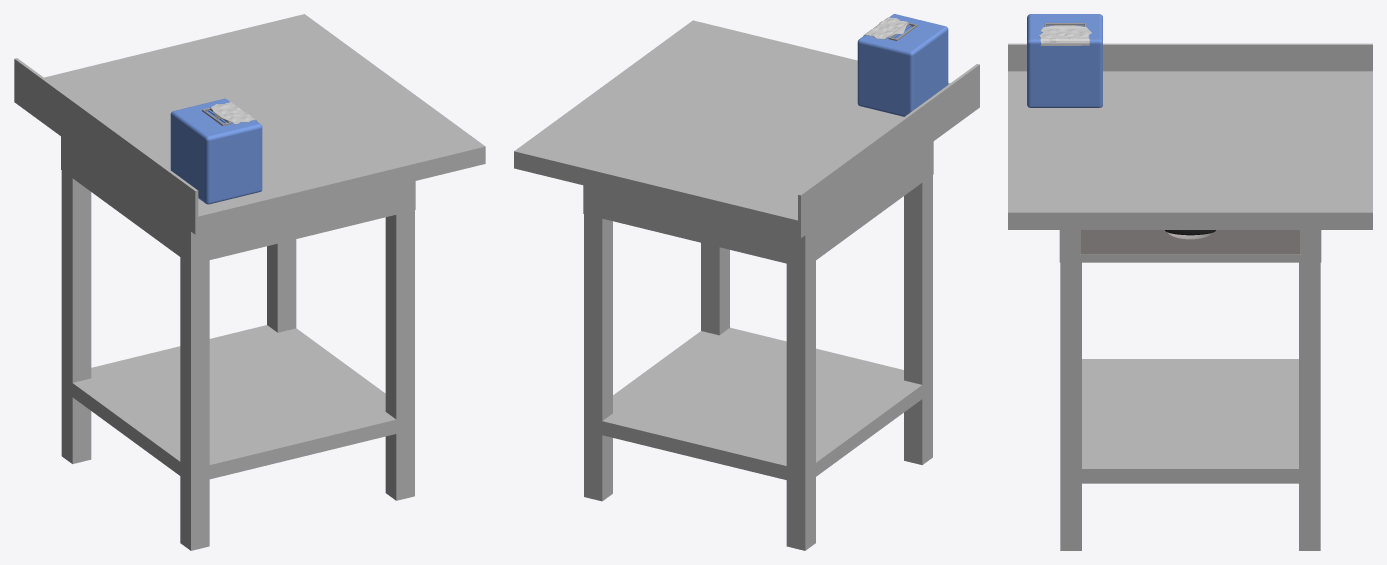
The model's file is Distribution.fbx.
3 views of the same model, side by side, from view 1: azimuth 30°, elevation 25°; view 2: azimuth 150°, elevation 25°; view 3: azimuth 270°, elevation 25° (orthographic).
Parts seen in each view (by area): view 1: Table, Box, BoxNapkin, Napkin; view 2: Table, Box, BoxNapkin, Napkin; view 3: Table, BoxNapkin, BoxInside, Box, Napkin.
Part boxes in pixels (x1,y1,x2,y2): Table: (14, 14, 485, 550); Box: (61, 136, 415, 264); BoxNapkin: (170, 98, 262, 204); Napkin: (211, 102, 257, 124); Table: (514, 20, 979, 550); Box: (583, 141, 933, 267); BoxNapkin: (857, 14, 948, 116); Napkin: (863, 17, 908, 39); Table: (1008, 43, 1372, 550); BoxNapkin: (1027, 14, 1102, 107); BoxInside: (1081, 230, 1299, 254); Box: (1059, 230, 1321, 262); Napkin: (1039, 25, 1091, 45).
Size of the model in its own units: 1.11 by 1.2 by 1.56.
